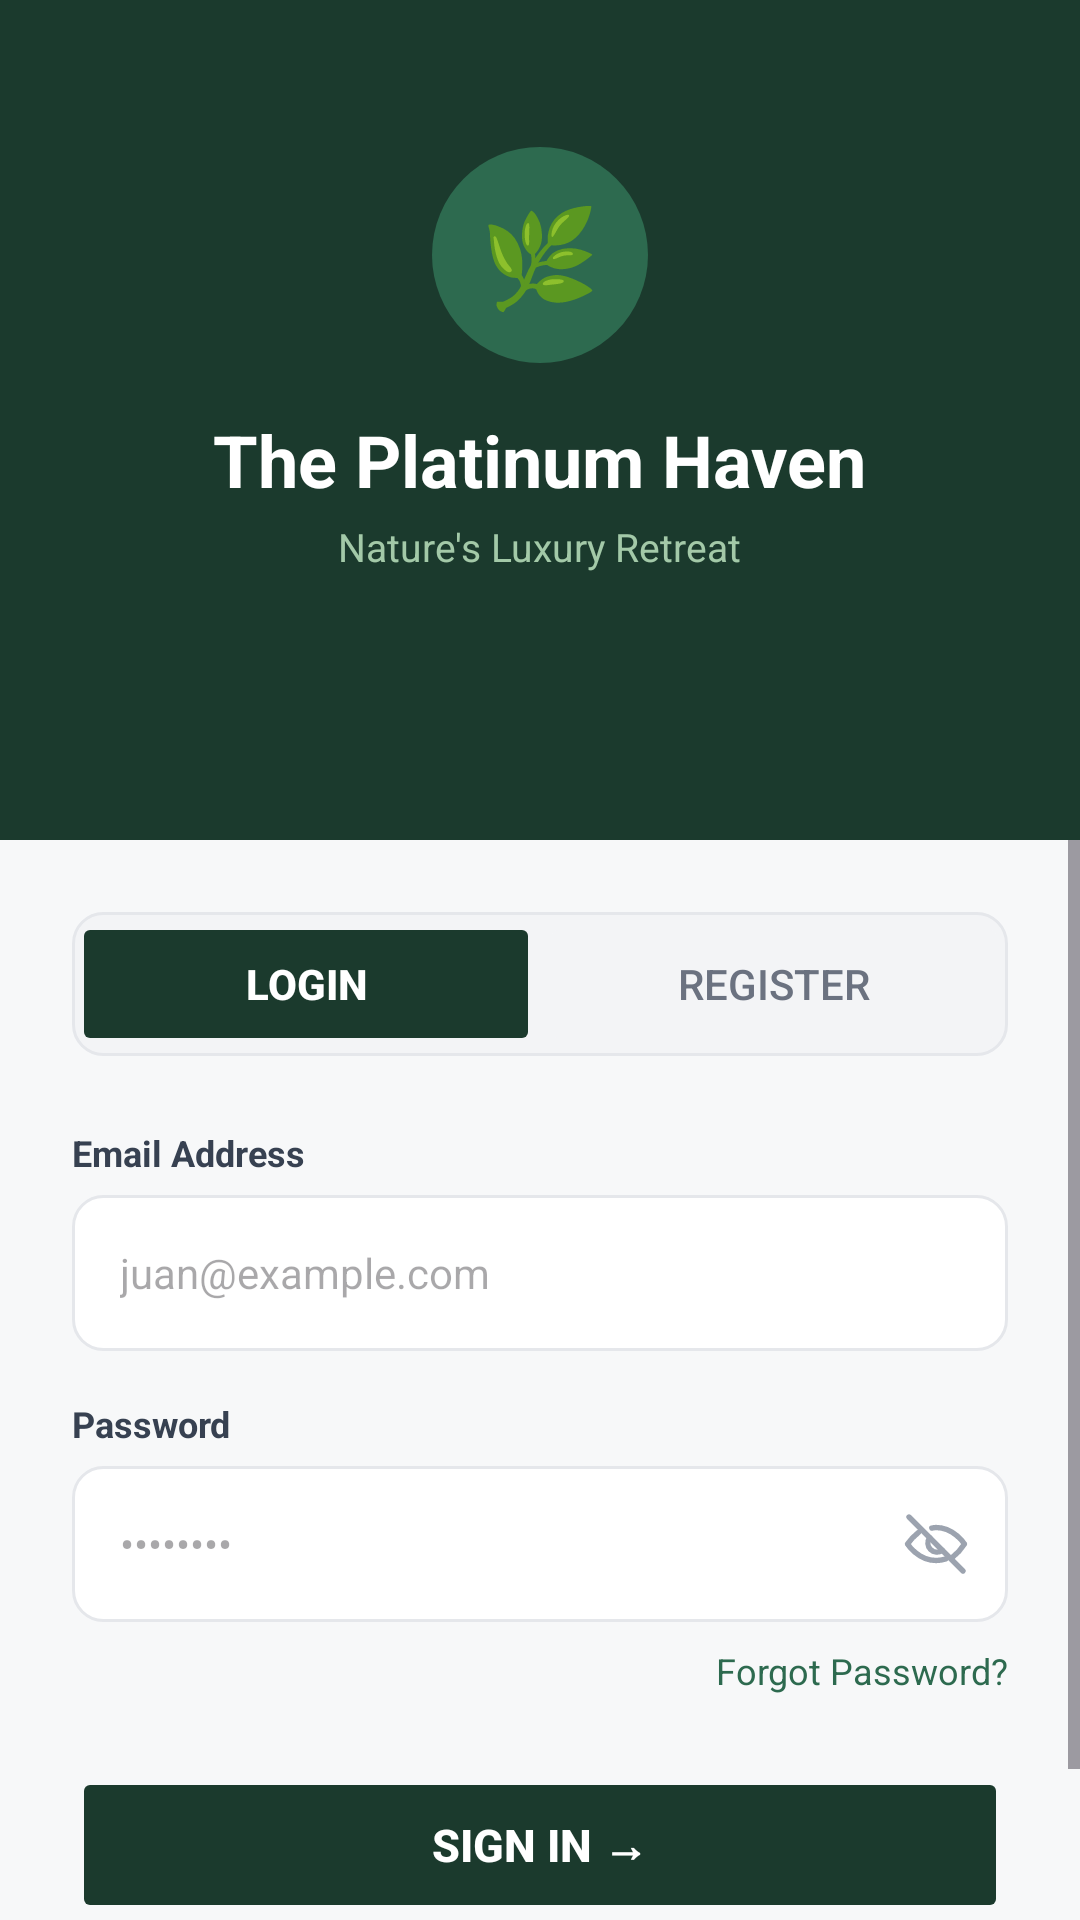

Icons on this 1080w x 1920h Android screen, each with its box as (x1, y1, x2, y2):
eye closed: (905, 1514, 967, 1574)
